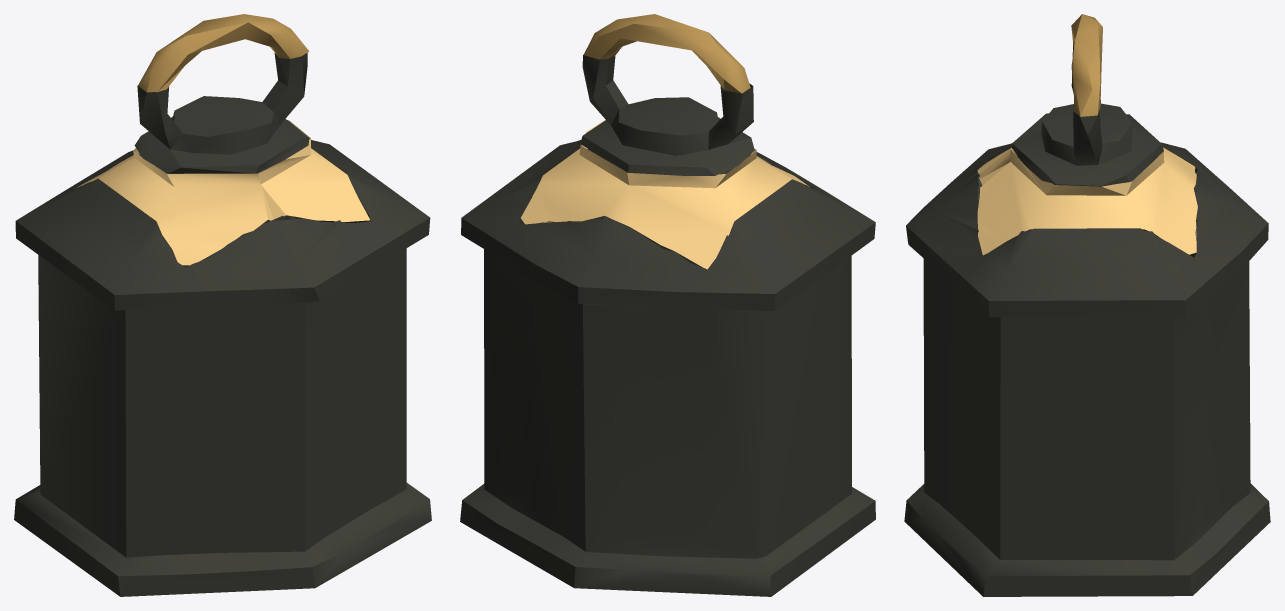
File: lantern.glb
The picture shows the model from 3 angles, left to right: view 1: azimuth 30°, elevation 25°; view 2: azimuth 150°, elevation 25°; view 3: azimuth 270°, elevation 25°; orthographic projection.
Visible parts, largest first — view 1: lantern_metal, lantern_glow, lantern_brass; view 2: lantern_metal, lantern_glow, lantern_brass; view 3: lantern_metal, lantern_glow, lantern_brass.
Part boxes in pixels (bbox=[...]): lantern_metal: bbox=[14, 53, 431, 596]; lantern_glow: bbox=[77, 120, 369, 265]; lantern_brass: bbox=[138, 14, 309, 92]; lantern_metal: bbox=[460, 55, 875, 596]; lantern_glow: bbox=[521, 119, 809, 269]; lantern_brass: bbox=[583, 14, 750, 93]; lantern_metal: bbox=[904, 44, 1270, 596]; lantern_glow: bbox=[977, 147, 1197, 255]; lantern_brass: bbox=[1071, 14, 1102, 116].
Size of the model in its own units: 0.1979 by 0.2989 by 0.2016.
